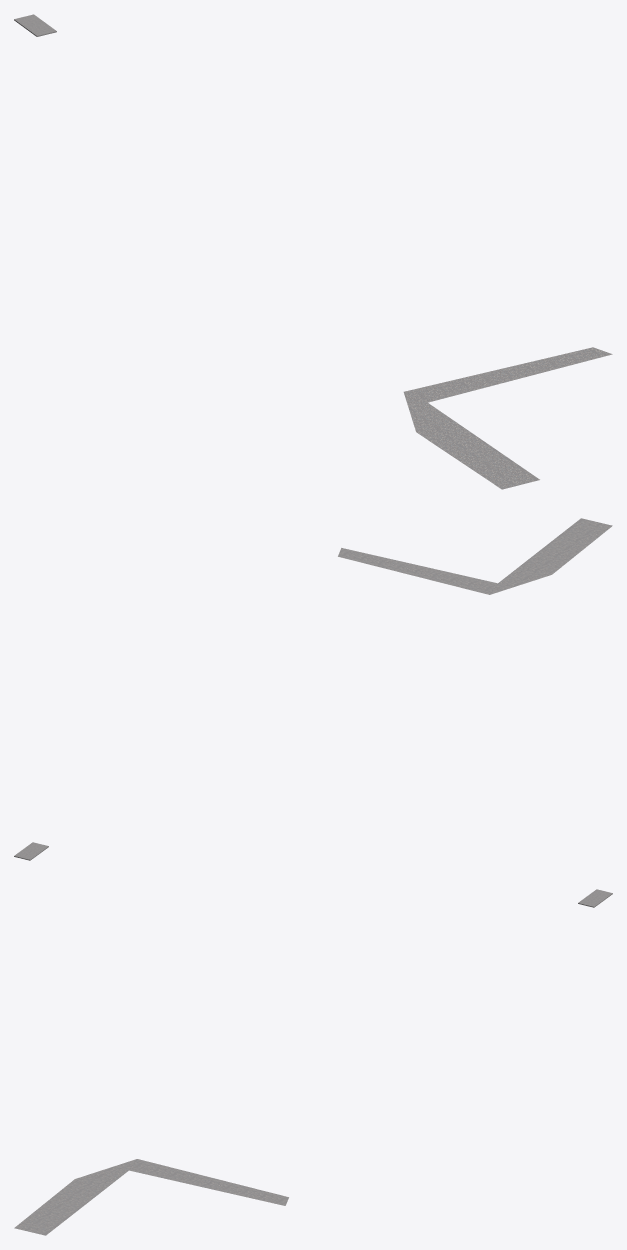
File: kd_stage_136282_3_34_bounded.glb
The picture shows the model from 3 angles, top to bottom: view 1: azimuth 30°, elevation 25°; view 2: azimuth 150°, elevation 25°; view 3: azimuth 330°, elevation 25°; orthographic projection. The views are drawn at different scales.
Visible parts, largest first — view 1: kd_stage_136282_3_34_bounded; view 2: kd_stage_136282_3_34_bounded; view 3: kd_stage_136282_3_34_bounded.
Part boxes in pixels (x1=…): kd_stage_136282_3_34_bounded: x1=14, y1=14, x2=612, y2=489; kd_stage_136282_3_34_bounded: x1=14, y1=518, x2=612, y2=860; kd_stage_136282_3_34_bounded: x1=14, y1=889, x2=612, y2=1235.
Bounding box in the file's own units: 5.7 × 0.0702 × 26.1.
Materials: 1 (1 with a texture image).
